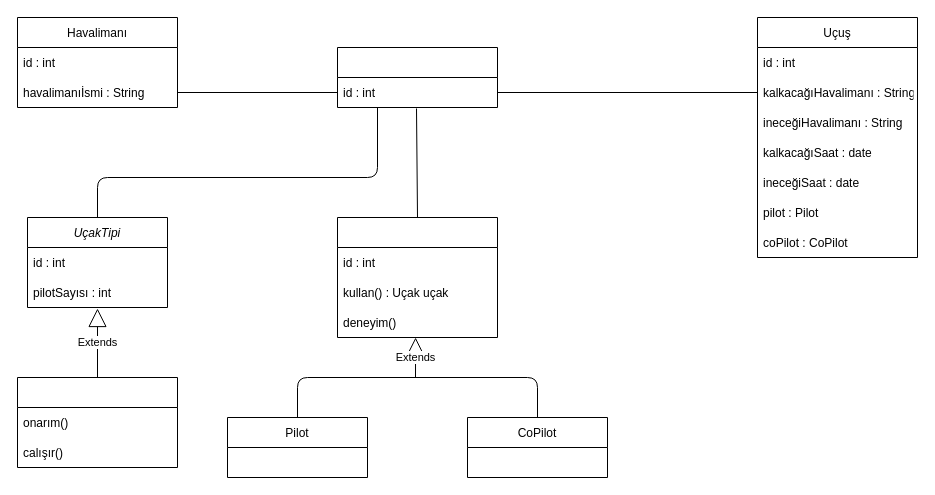
Some shapes in this 935 by 495 pixel diagram are drawn without their labels. Here are the shapes that lost their labels. From the top down, the box of each, then its label:
(336, 46, 498, 108): HavayoluŞirketi
(336, 216, 498, 338): Pilotlar
(16, 376, 178, 468): Uçak
